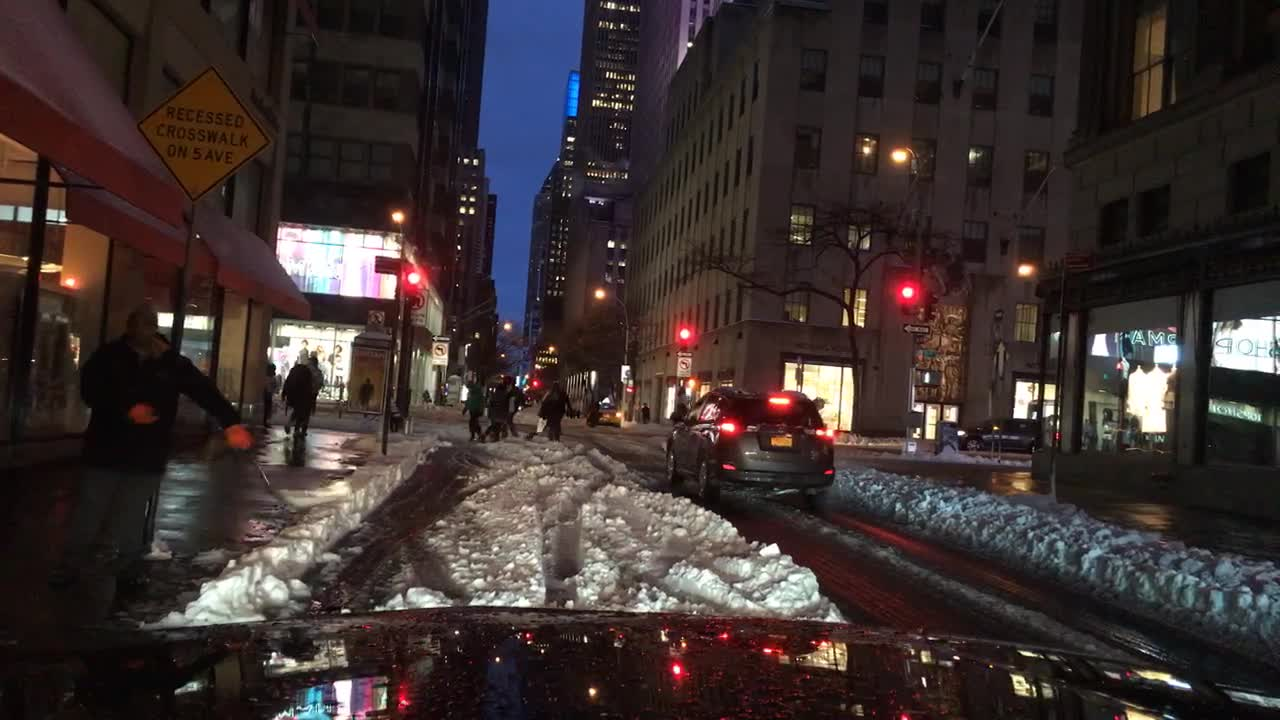car: (664, 387, 837, 506)
person: (85, 301, 248, 612), (489, 375, 525, 448), (539, 379, 577, 445), (457, 376, 488, 441)
traffic light: (402, 263, 426, 311), (674, 324, 698, 353)
